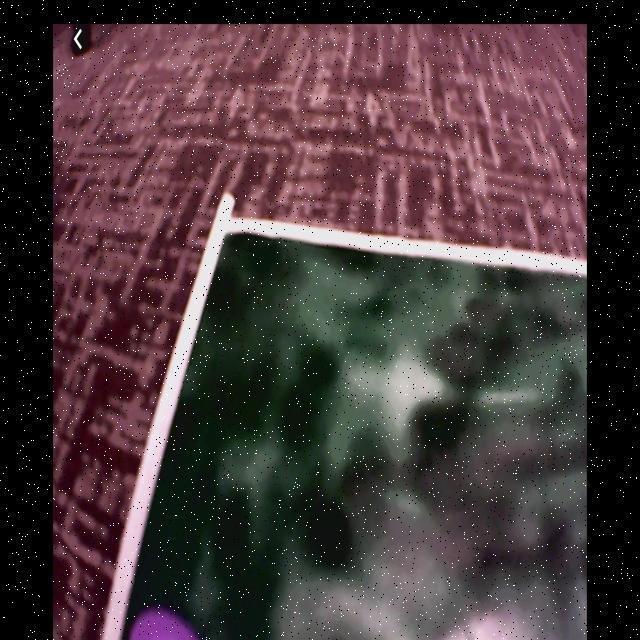ball: (127, 613, 194, 640)
